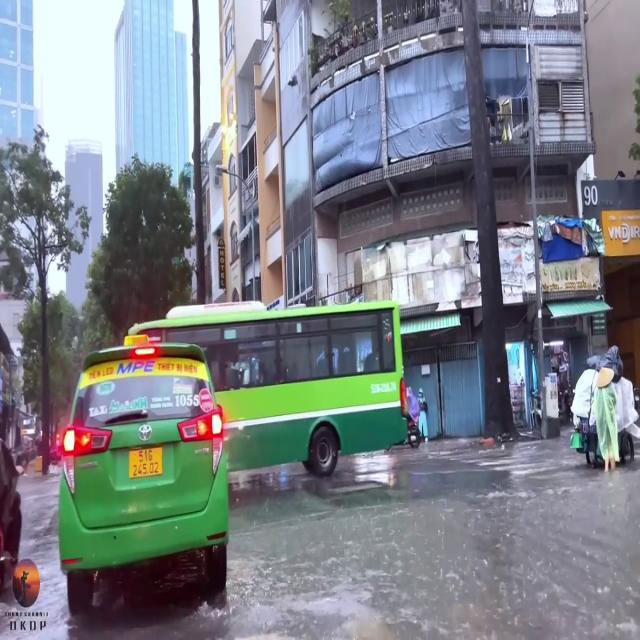bien_vang: (125, 445, 163, 482)
